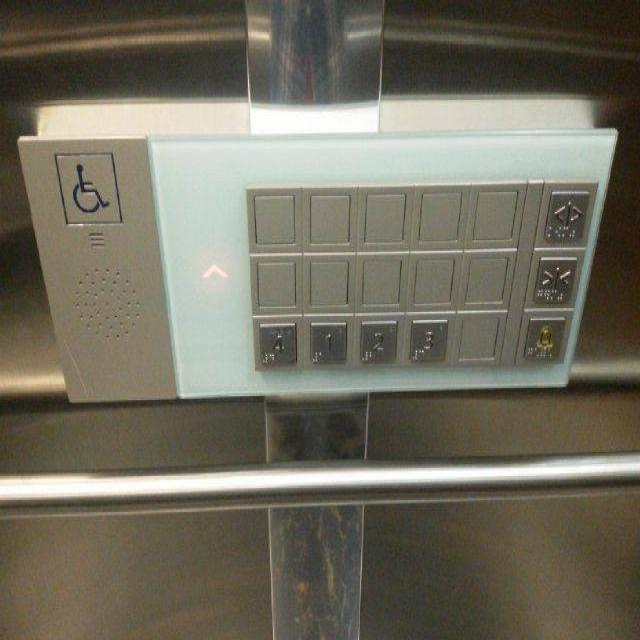1: (306, 318, 349, 366)
2: (357, 317, 399, 364)
3: (407, 314, 447, 362)
4: (258, 320, 300, 368)
CH: (52, 152, 121, 224)
alarm: (523, 313, 566, 367)
close: (532, 252, 579, 307)
open: (543, 188, 590, 247)
